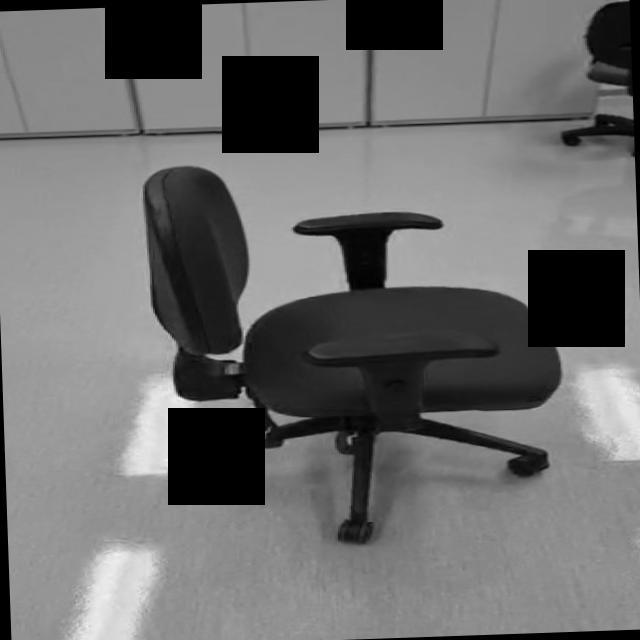chair: (139, 154, 571, 550)
